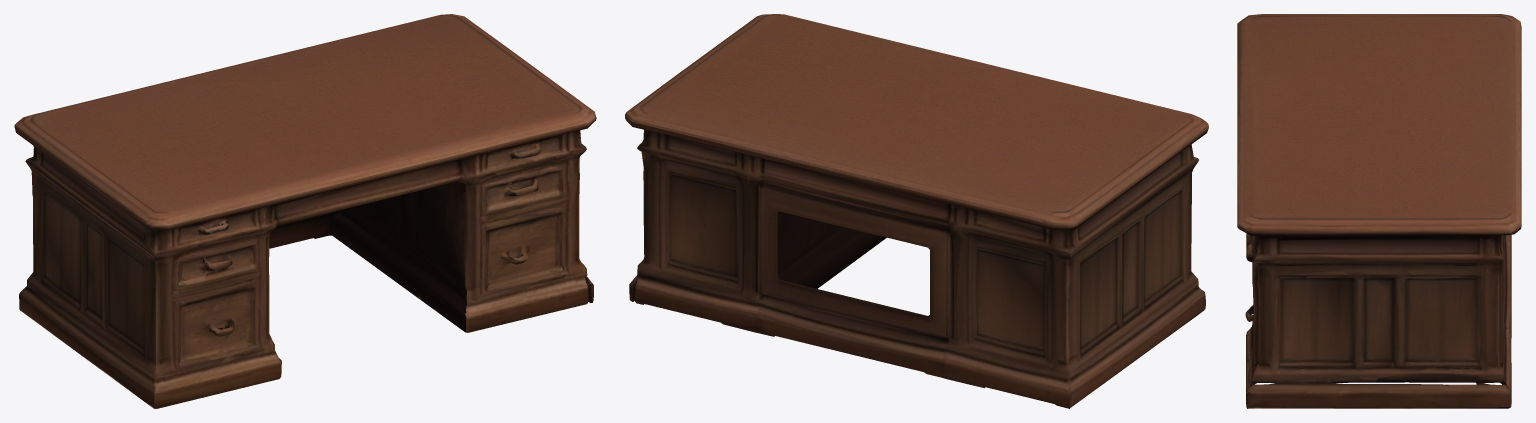
File: desk.glb
3 renders of one model, left to right at view 1: azimuth 30°, elevation 25°; view 2: azimuth 150°, elevation 25°; view 3: azimuth 270°, elevation 25°, orthographic. The views are drawn at different scales.
Parts seen in each view (by area): view 1: tmpi32cw769.ply; view 2: tmpi32cw769.ply; view 3: tmpi32cw769.ply.
Boxes of the visible parts, x1,y1,x2,y2 form: tmpi32cw769.ply: [14, 14, 596, 408]; tmpi32cw769.ply: [625, 14, 1208, 408]; tmpi32cw769.ply: [1237, 14, 1521, 408].
Size of the model in its own units: 1.97 by 0.8009 by 1.1.
Materials: 1 (1 with a texture image).
